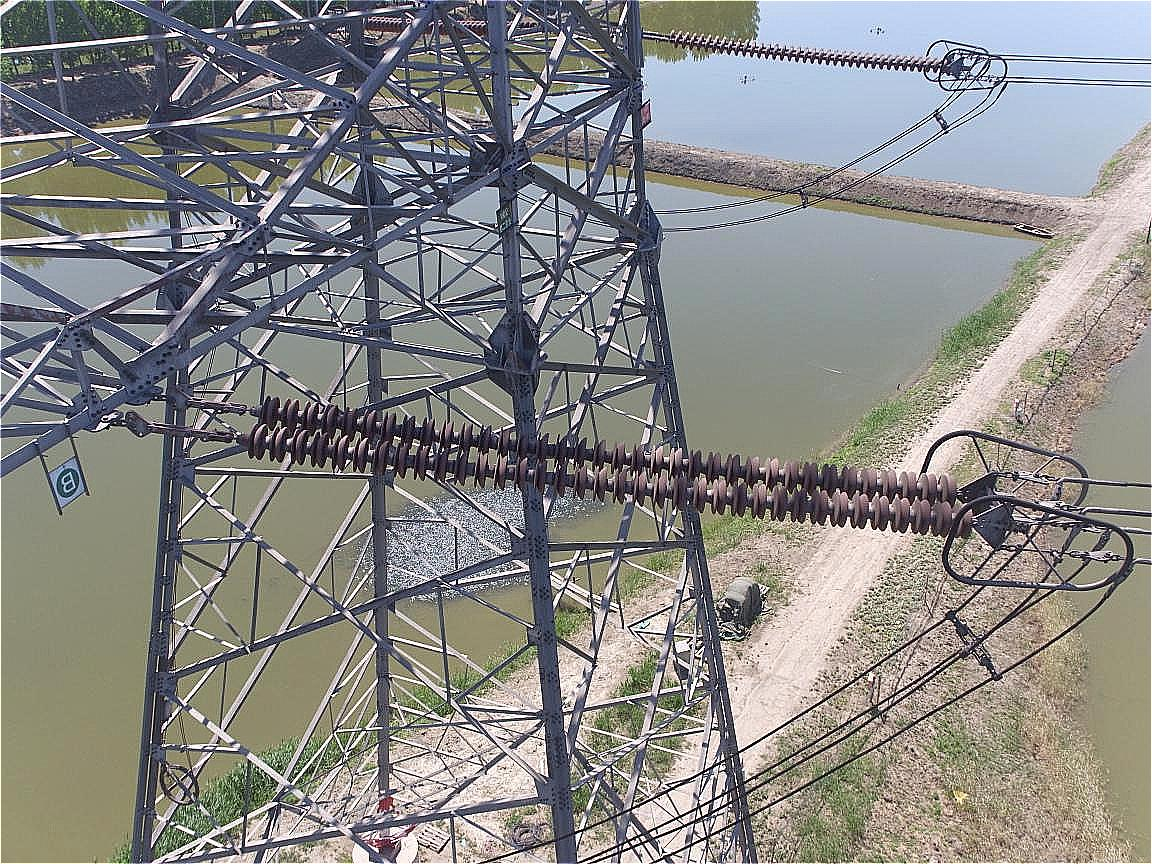insultor2: (198, 382, 1012, 553)
